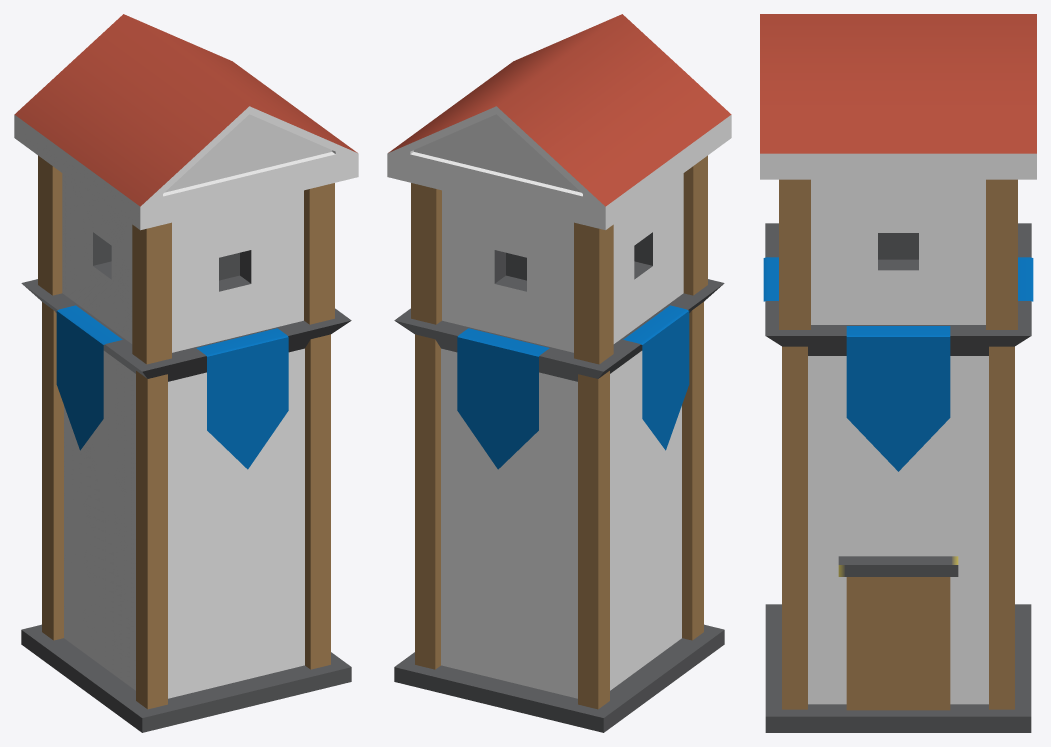
The model's file is tower_fast.fbx.
3 renders of one model, left to right at view 1: azimuth 30°, elevation 25°; view 2: azimuth 150°, elevation 25°; view 3: azimuth 270°, elevation 25°, orthographic. The views are drawn at different scales.
Parts seen in each view (by area): view 1: pPlane5; view 2: pPlane5; view 3: pPlane5.
Part boxes in pixels (<box>): pPlane5: <box>14,14,358,732</box>; pPlane5: <box>387,14,731,732</box>; pPlane5: <box>760,14,1036,732</box>.
Bounding box in the file's own units: 2.68 × 7.07 × 2.68.
Materials: 1 (1 with a texture image).
